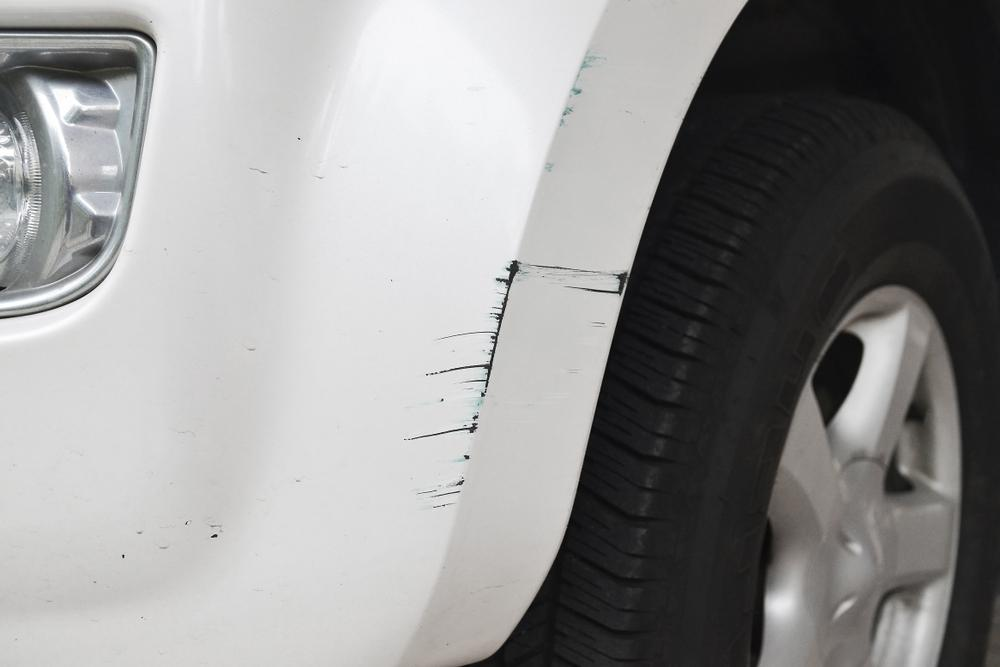scratch: (402, 257, 634, 519)
